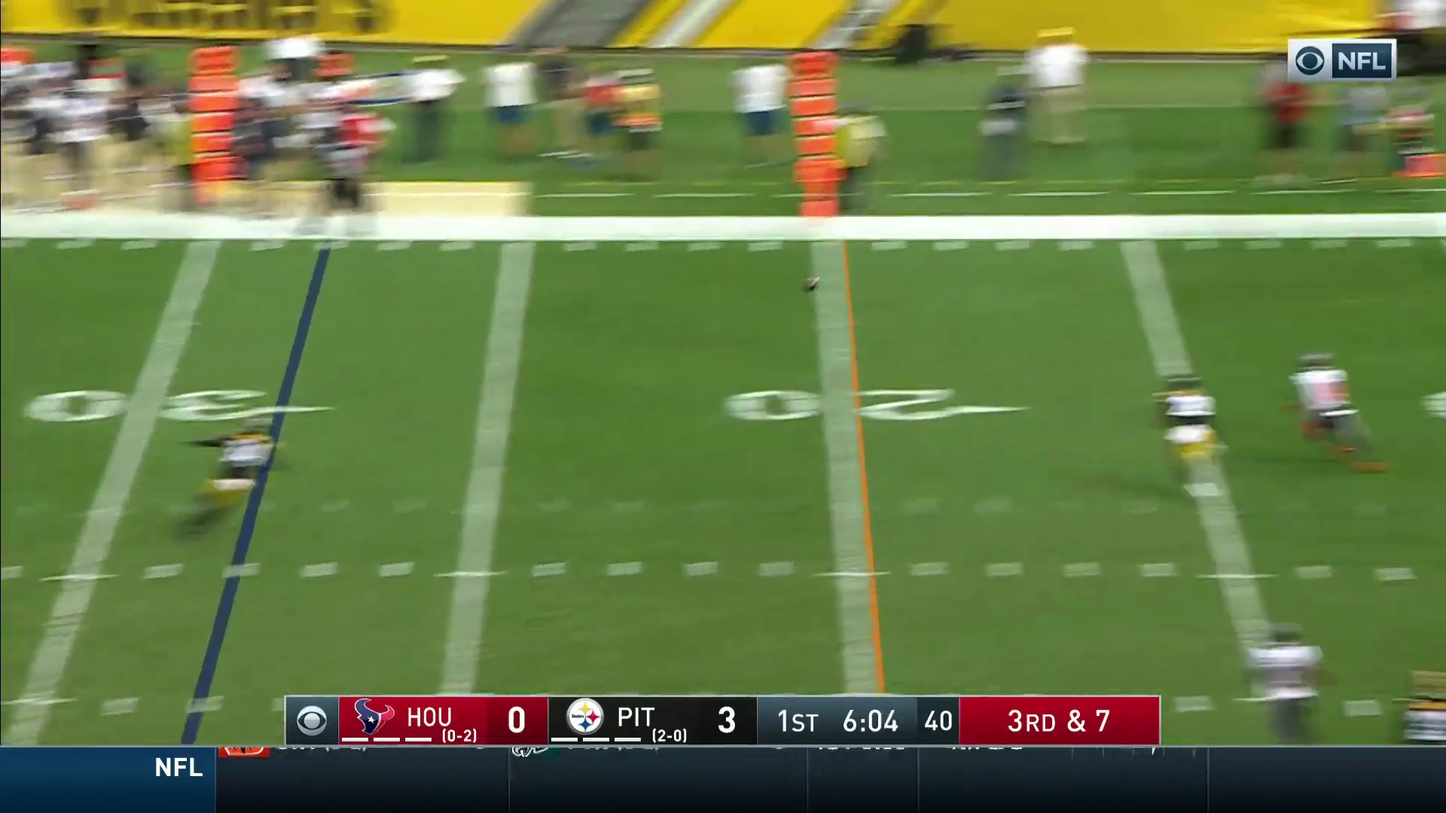Player: (1398, 668, 1446, 812)
